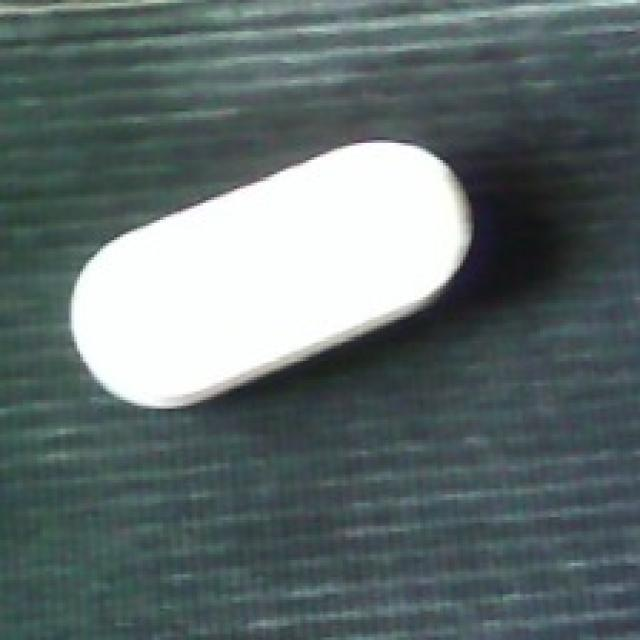no-defect: (66, 134, 474, 411)
